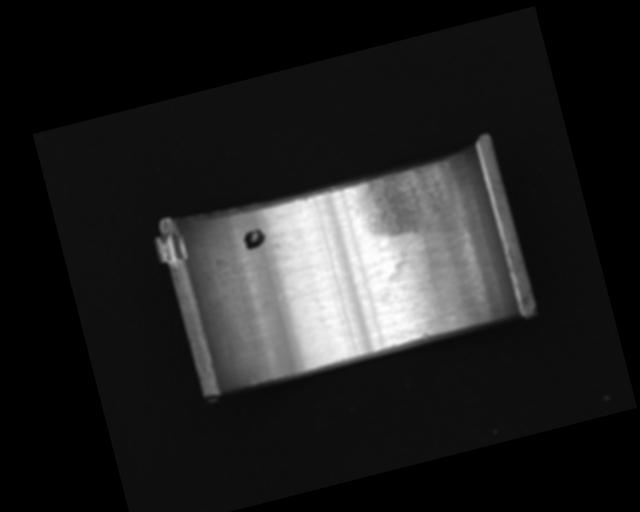blot: (240, 226, 268, 251)
bruise: (420, 330, 431, 341)
scratch: (347, 158, 466, 247)
